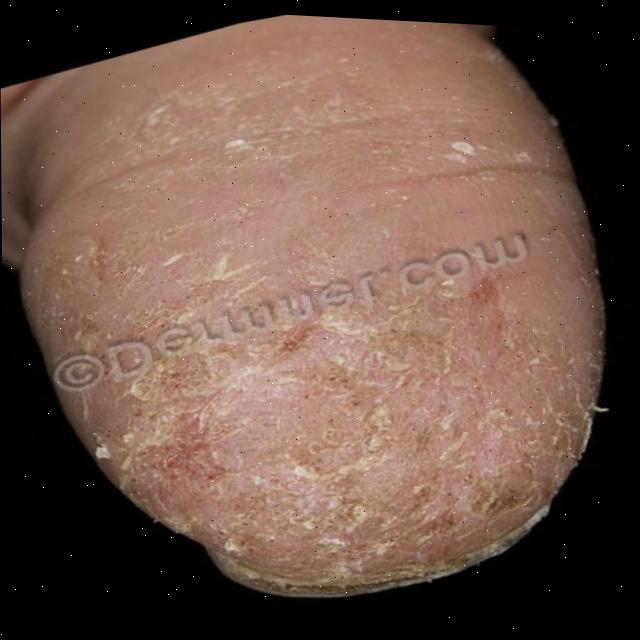Eczema: (101, 161, 561, 571)
